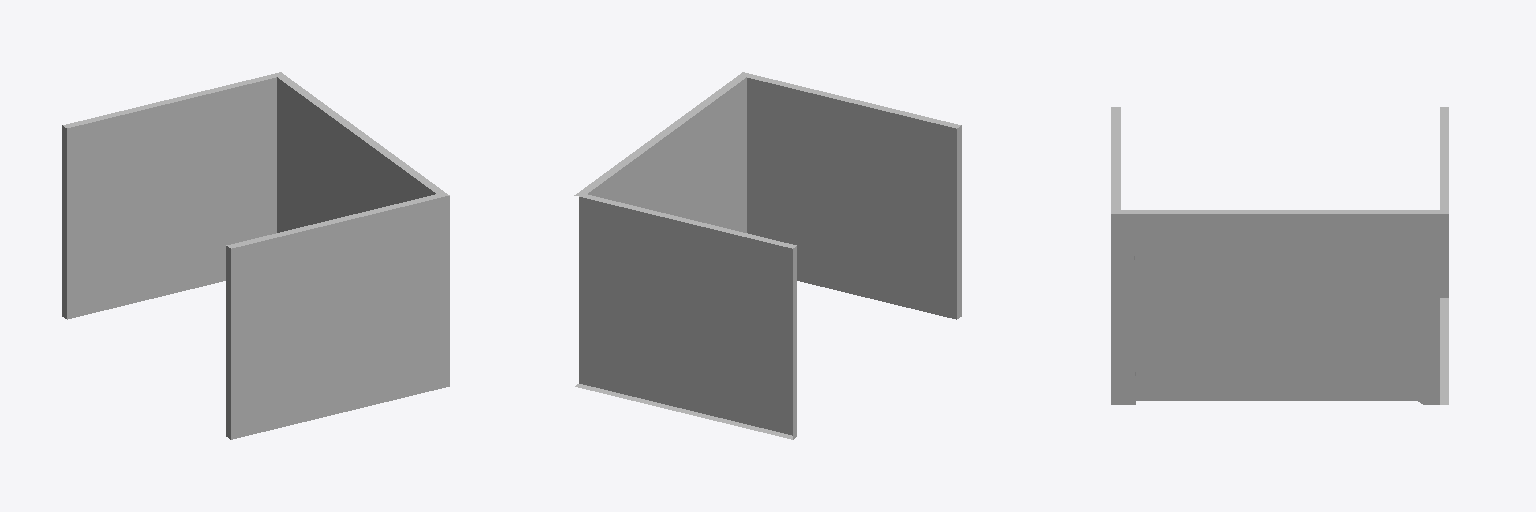
Rendered from TerraceWalls.obj.
3 views of the same model, side by side, from view 1: azimuth 30°, elevation 25°; view 2: azimuth 150°, elevation 25°; view 3: azimuth 270°, elevation 25° (orthographic).
Visible parts, largest first — view 1: TerraceWalls; view 2: TerraceWalls; view 3: TerraceWalls.
Part boxes in pixels (bbox=[...]): TerraceWalls: bbox=[62, 72, 449, 439]; TerraceWalls: bbox=[574, 72, 961, 439]; TerraceWalls: bbox=[1111, 107, 1448, 404].
Bounding box in the file's own units: 419 × 350 × 560.